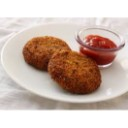cutlet: (52, 48, 98, 94), (26, 37, 75, 66)
